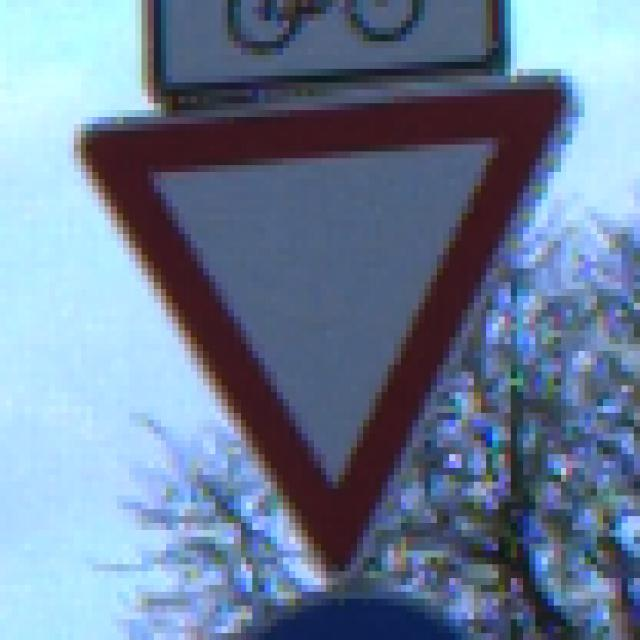Give Way: (63, 63, 586, 586)
